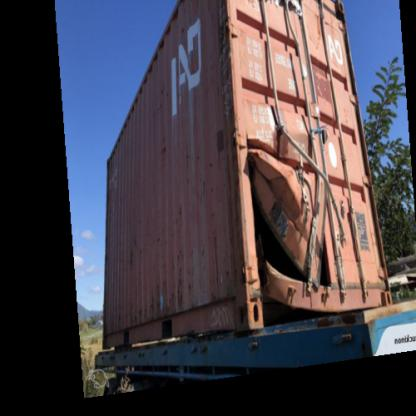Damage: (222, 18, 377, 309)
